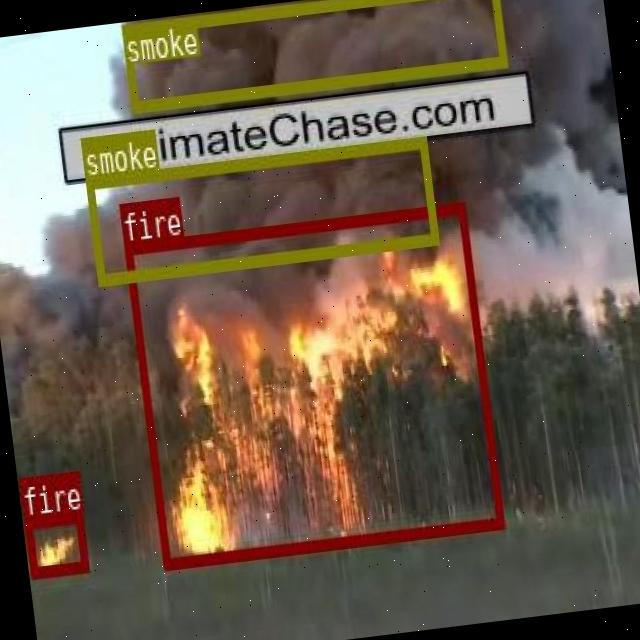fire: (124, 201, 502, 568), (22, 510, 86, 576)
smoke: (84, 136, 438, 285), (120, 0, 506, 110)
